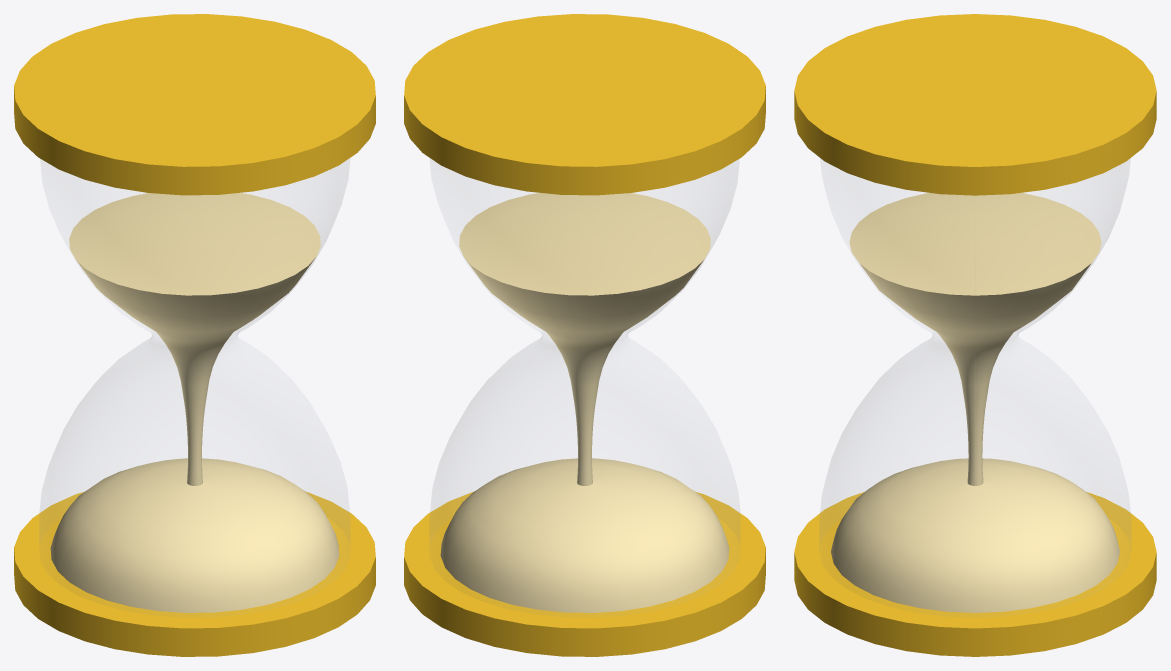
Rendered from hourglass_not_done.fbx.
3 renders of one model, left to right at view 1: azimuth 30°, elevation 25°; view 2: azimuth 150°, elevation 25°; view 3: azimuth 270°, elevation 25°, orthographic.
Visible parts, largest first — view 1: Cylinder.459; view 2: Cylinder.459; view 3: Cylinder.459.
Boxes of the visible parts, <box> form: Cylinder.459: <box>14,14,375,656</box>; Cylinder.459: <box>404,14,765,656</box>; Cylinder.459: <box>794,14,1156,656</box>.
Size of the model in its own units: 139 by 209 by 139.
2 materials, 1 textured.
